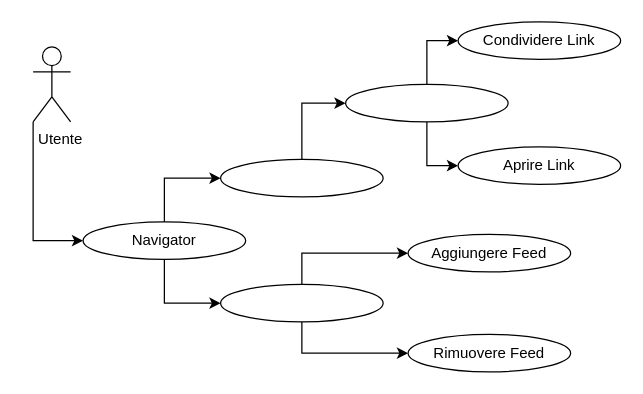
This 643x394 diagram has some shape labels left out. The shapes that lost their labels are listed below. From the top down, each one's box as (x1, y1, x2, y2) in pixels, then its label:
(344, 83, 508, 122): Leggere Notizie
(219, 158, 383, 197): Home
(219, 283, 383, 322): Impostazioni
